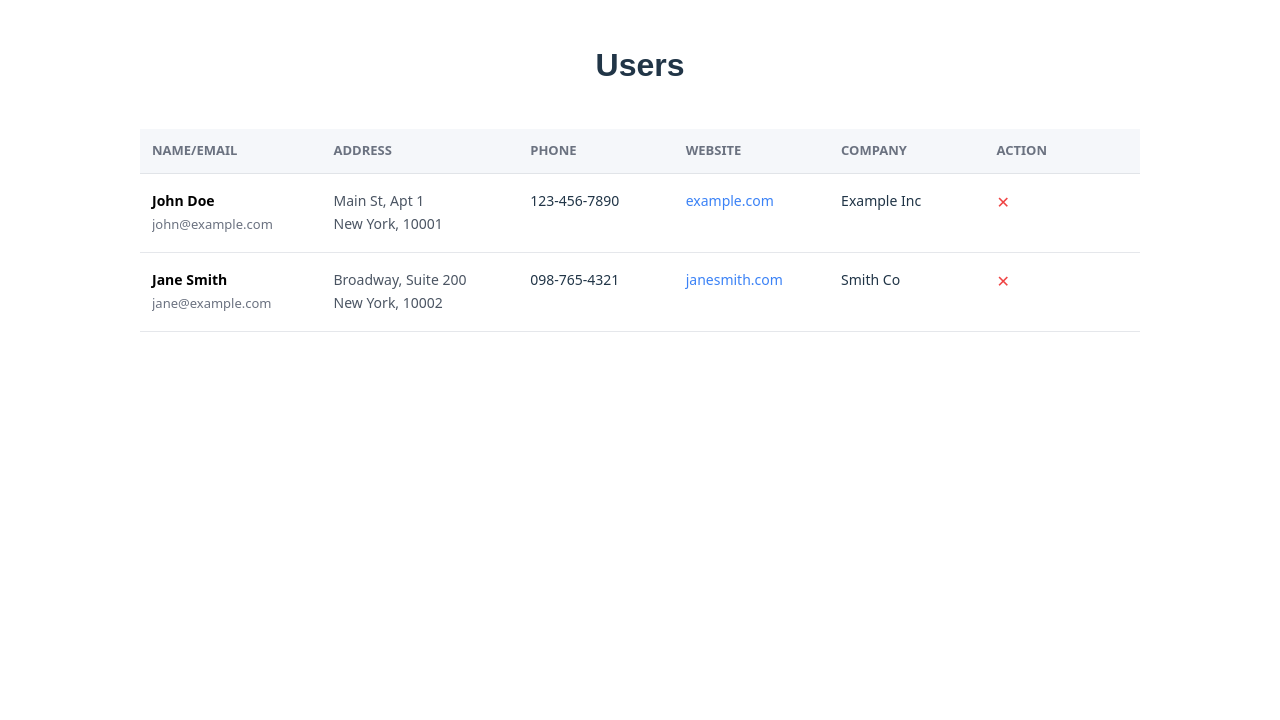
Test: App Component › should close user detail modal when close button is clicked
# Click on a user
Click the text "John Doe" at (183, 200), box 152,191 -> 215,210
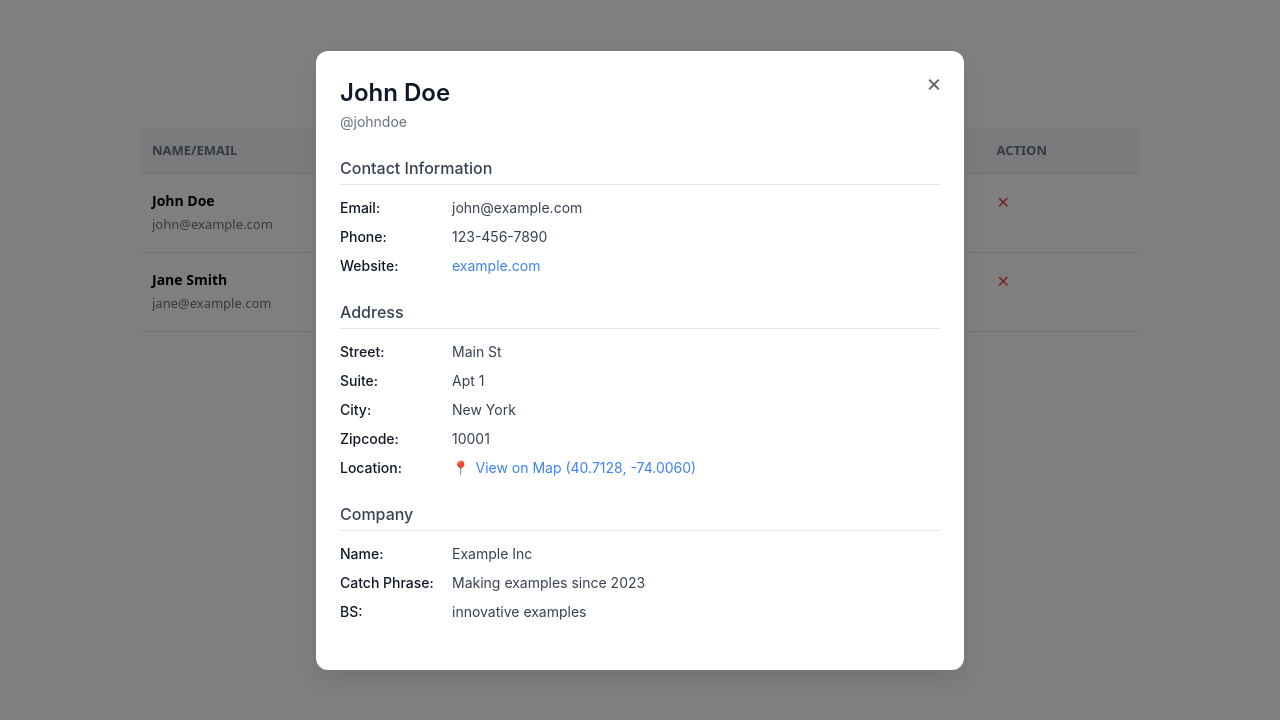
expect the text "@johndoe" is shown: met, box 340,112 -> 407,130
# Click the close button
Click the button "×" at (934, 82), box 920,66 -> 948,98
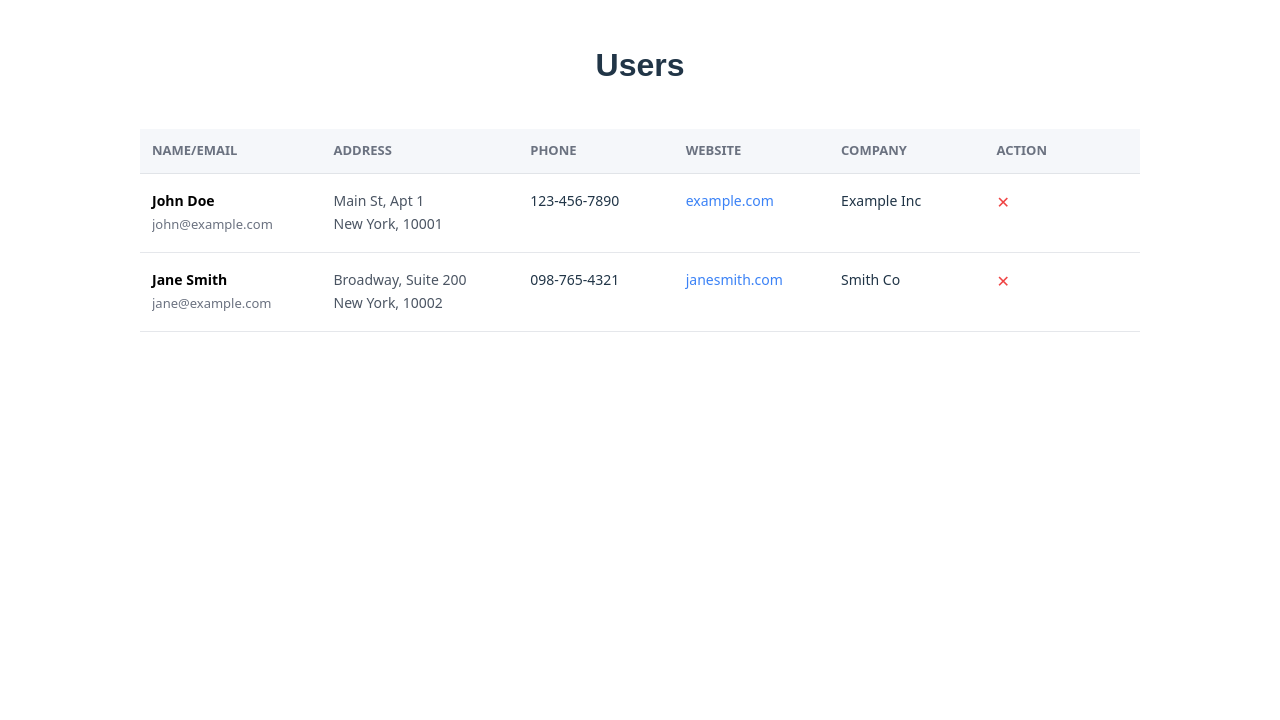
expect the text "@johndoe" is gone: met
